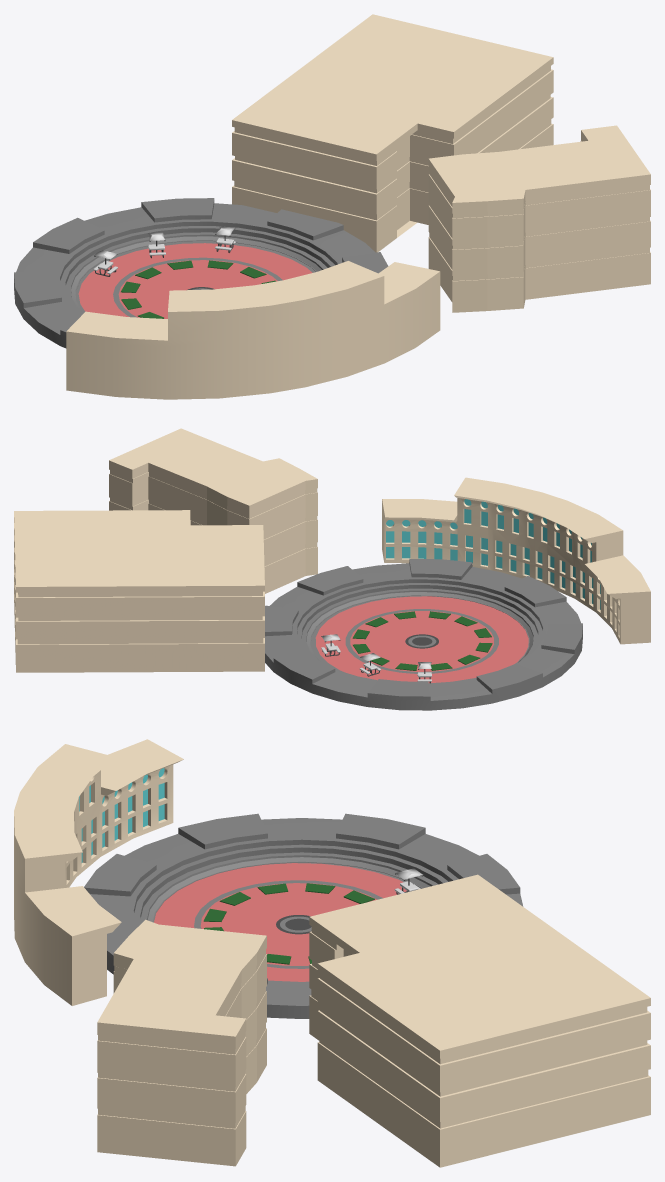
The model's file is Facultad 1.fbx.
3 views of the same model, one above another, from view 1: azimuth 30°, elevation 25°; view 2: azimuth 150°, elevation 25°; view 3: azimuth 270°, elevation 25° (orthographic). The views are drawn at different scales.
Parts seen in each view (by area): view 1: EdificioB, EdificioA, Cube, Gradas, Coliseo_suelo, Coliseo_Verde; view 2: EdificioB, Gradas, EdificioA, Cube, Coliseo_suelo, Coliseo_Verde; view 3: EdificioB, Cube, EdificioA, Gradas, Coliseo_suelo, Coliseo_Verde.
Boxes of the visible parts, x1,y1,x2,y2 form: EdificioB: (232, 14, 553, 252); EdificioA: (66, 261, 440, 399); Cube: (428, 125, 650, 312); Gradas: (14, 198, 388, 348); Coliseo_suelo: (76, 241, 315, 318); Coliseo_Verde: (121, 260, 275, 318); EdificioB: (14, 510, 264, 672); Gradas: (265, 558, 582, 710); EdificioA: (382, 477, 650, 644); Cube: (109, 428, 317, 593); Coliseo_suelo: (311, 596, 528, 683); Coliseo_Verde: (352, 611, 492, 670); EdificioB: (309, 874, 650, 1167); Cube: (97, 919, 266, 1166); EdificioA: (14, 739, 183, 1005); Gradas: (84, 813, 523, 1018); Coliseo_suelo: (154, 862, 421, 981); Coliseo_Verde: (203, 883, 374, 964).
Size of the model in its own units: 3976 by 683 by 3039.
